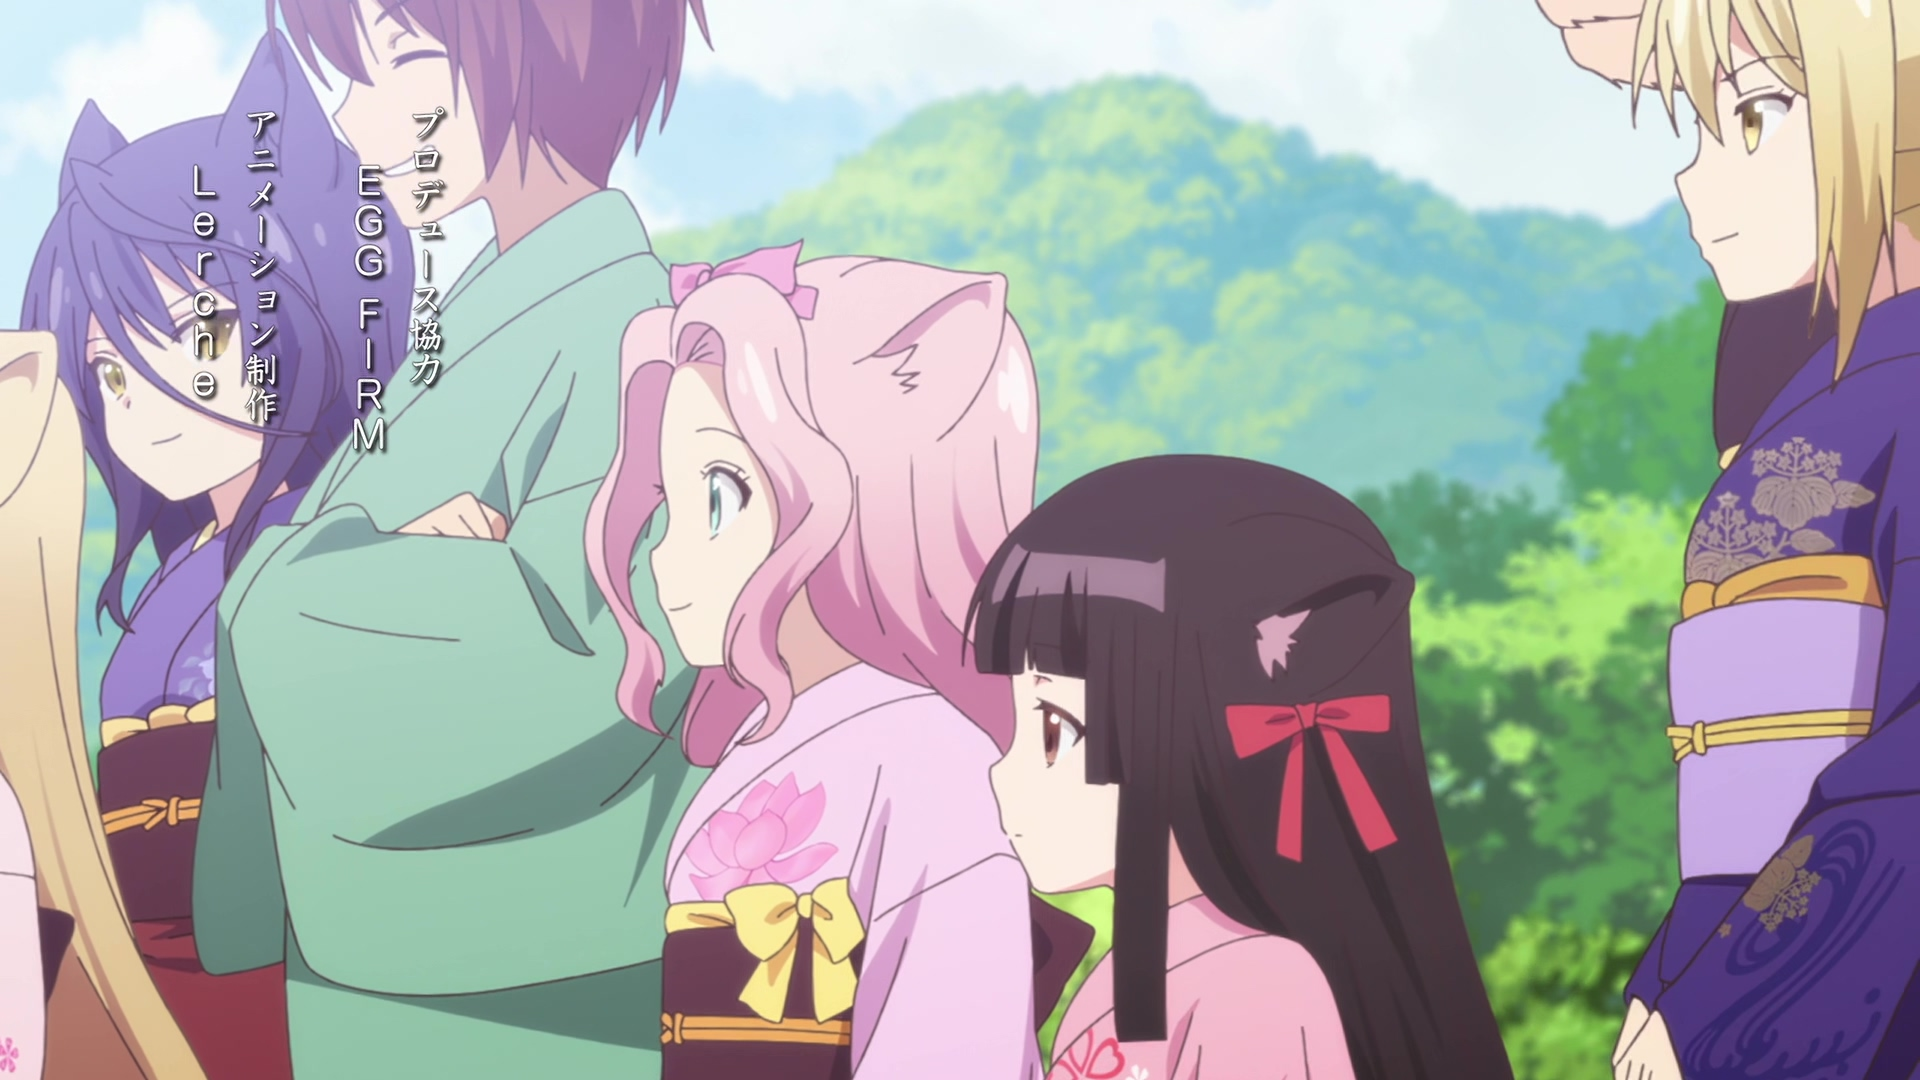不计算: (1538, 1, 1920, 469)
枣: (193, 1, 715, 1080)
柚: (1, 326, 207, 1080)
桐: (1610, 1, 1920, 1080)
樱: (960, 454, 1516, 1080)
皋: (17, 28, 418, 1080)
莲: (585, 243, 1096, 1080)
